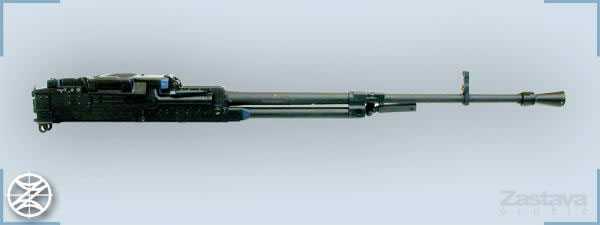rifle: (30, 45, 575, 151)
